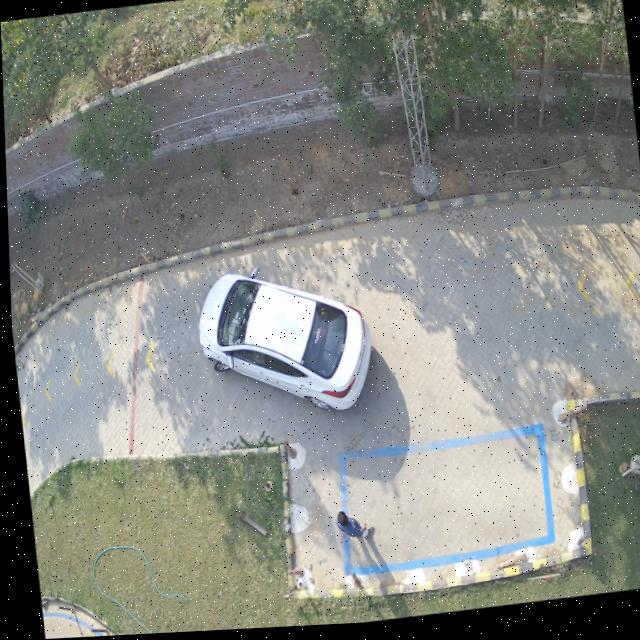car: (195, 270, 368, 414)
